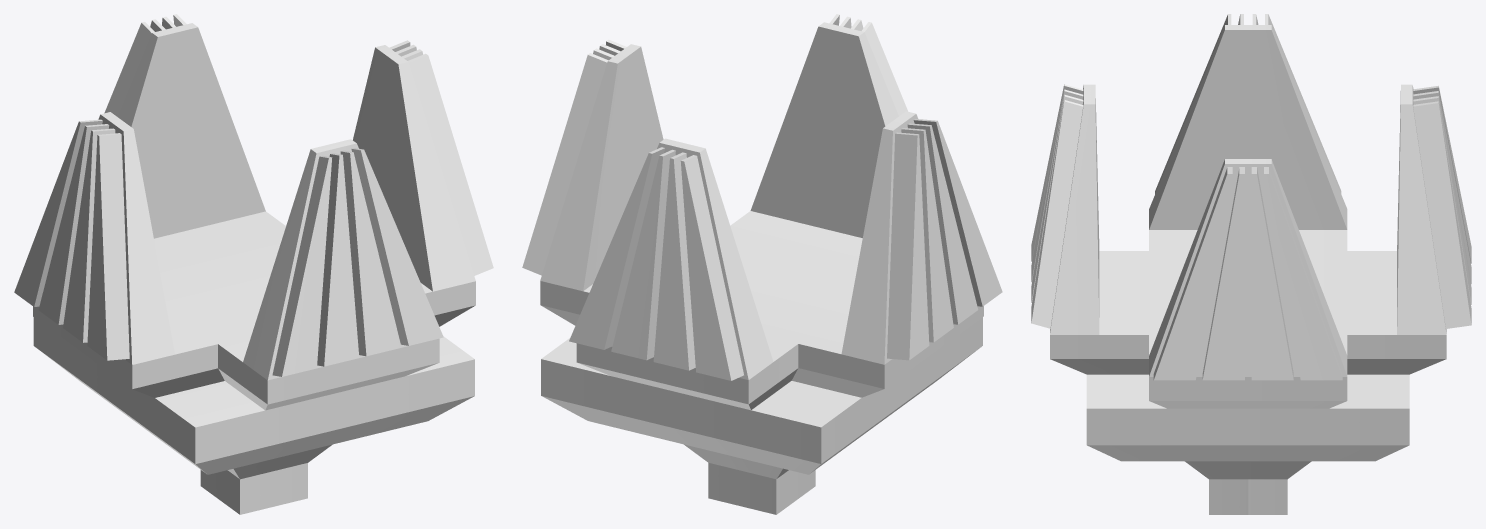
Rendered from spinningObjects.glb.
3 views of the same model, side by side, from view 1: azimuth 30°, elevation 25°; view 2: azimuth 150°, elevation 25°; view 3: azimuth 270°, elevation 25° (orthographic).
Parts seen in each view (by area): view 1: Cube; view 2: Cube; view 3: Cube.
Part boxes in pixels (x1,y1,x2,y2): Cube: (14,14,493,514); Cube: (522,14,1002,514); Cube: (1031,14,1471,514).
Size of the model in its own units: 11.34 by 11.4 by 11.21.
Materials: 1 (1 with a texture image).
